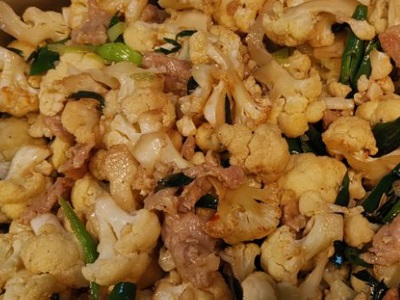cch: (4, 6, 393, 294)
